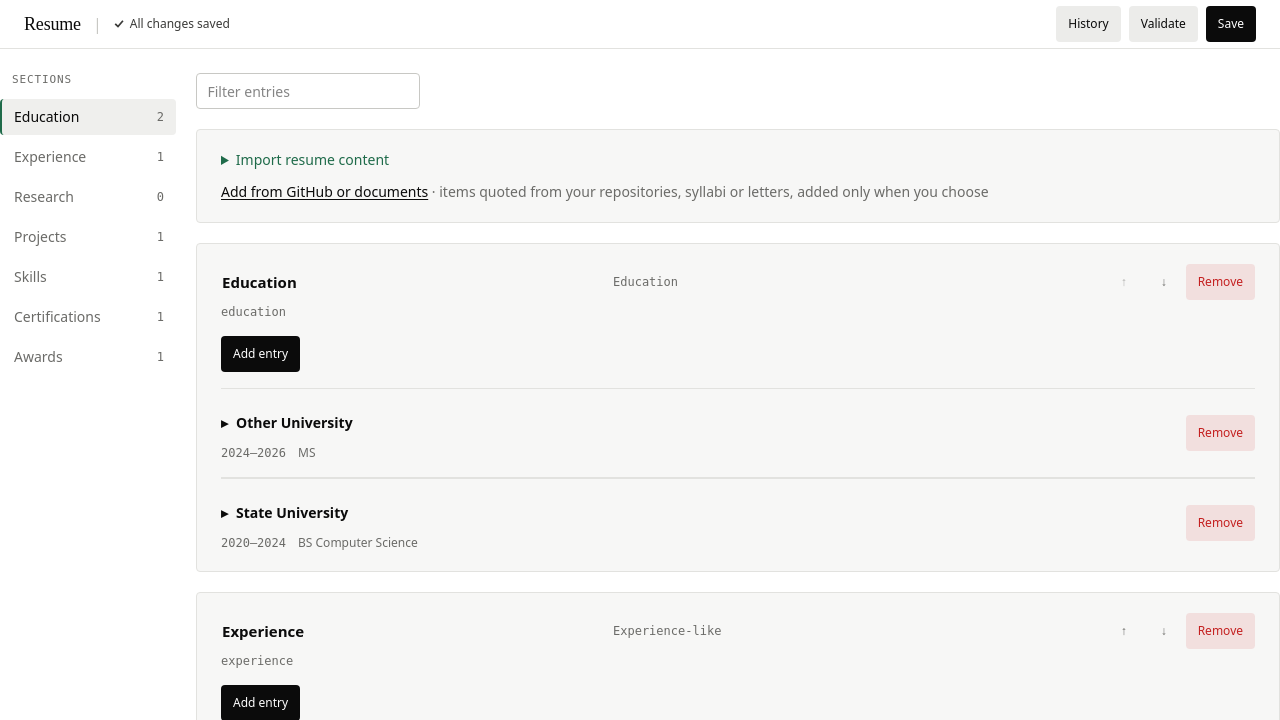
filters entries by their text and hides sections with no match
The image size is (1280, 720).
Check: the button with aria-label "Expand State University" is shown, box [221,495,348,531]
Type "state university" into the field named "Filter resume entries".
click(308, 91); type("state university")  # box [196,73,420,109]
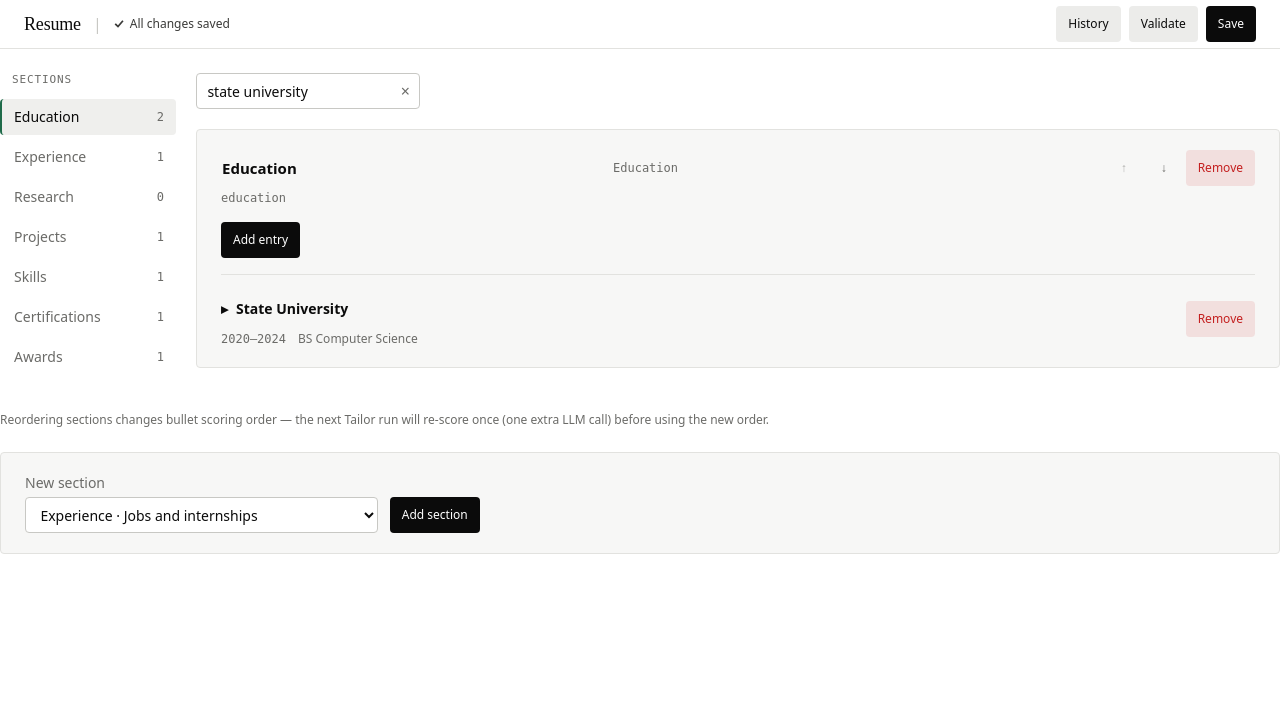
Check: the button with aria-label "Expand State University" is shown, box [221,291,348,327]
Replace the text in the field named "Filter resume entries" with "no such words" at {"x": 308, "y": 91}, box [196,73,420,109]
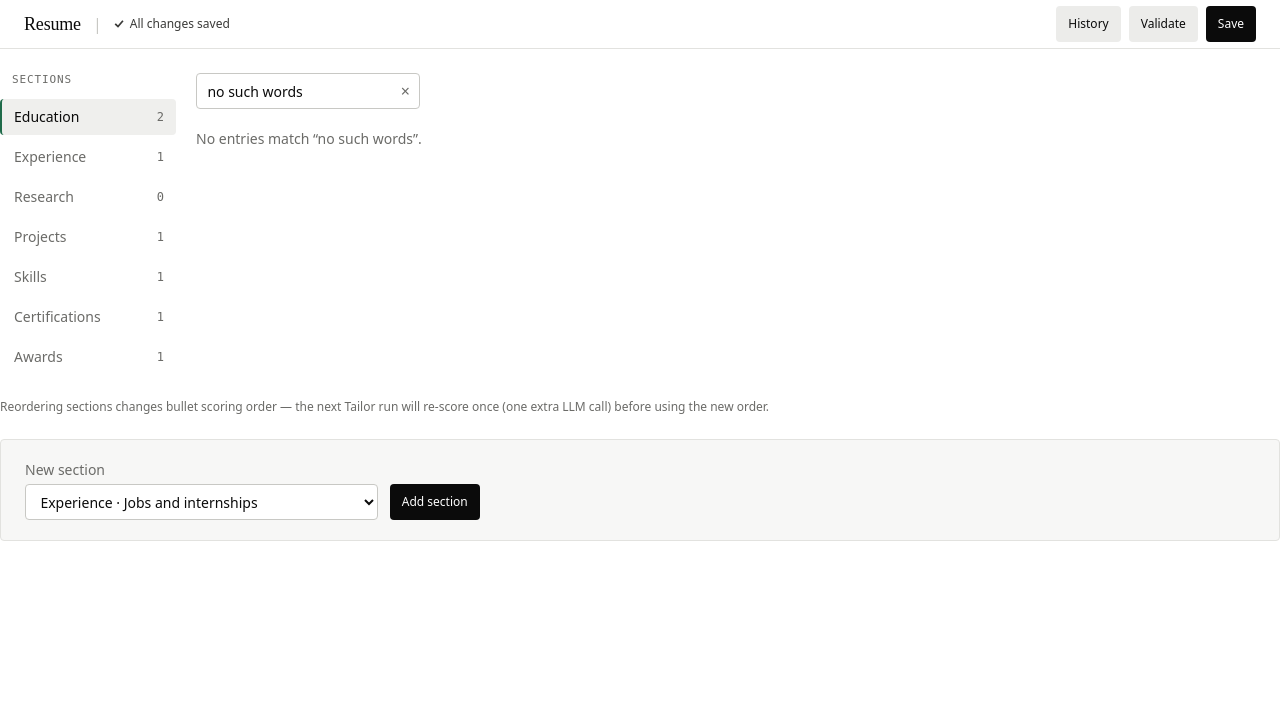
Check: the text "No entries match “no such words”." is shown, box [196,129,422,148]
Press Escape in the field named "Filter resume entries", box [196,73,420,109]
(page scrolled)
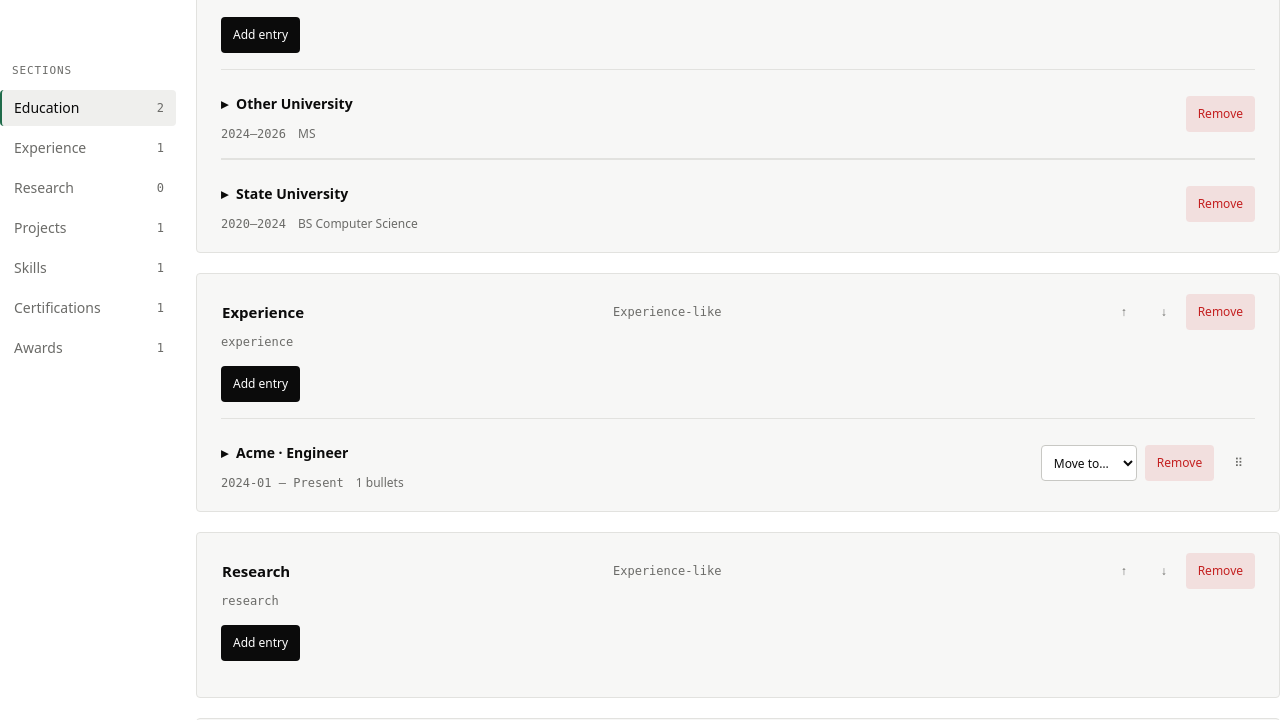
Check: the element with id "resume-section-experience" is shown, box [196,273,1279,512]
